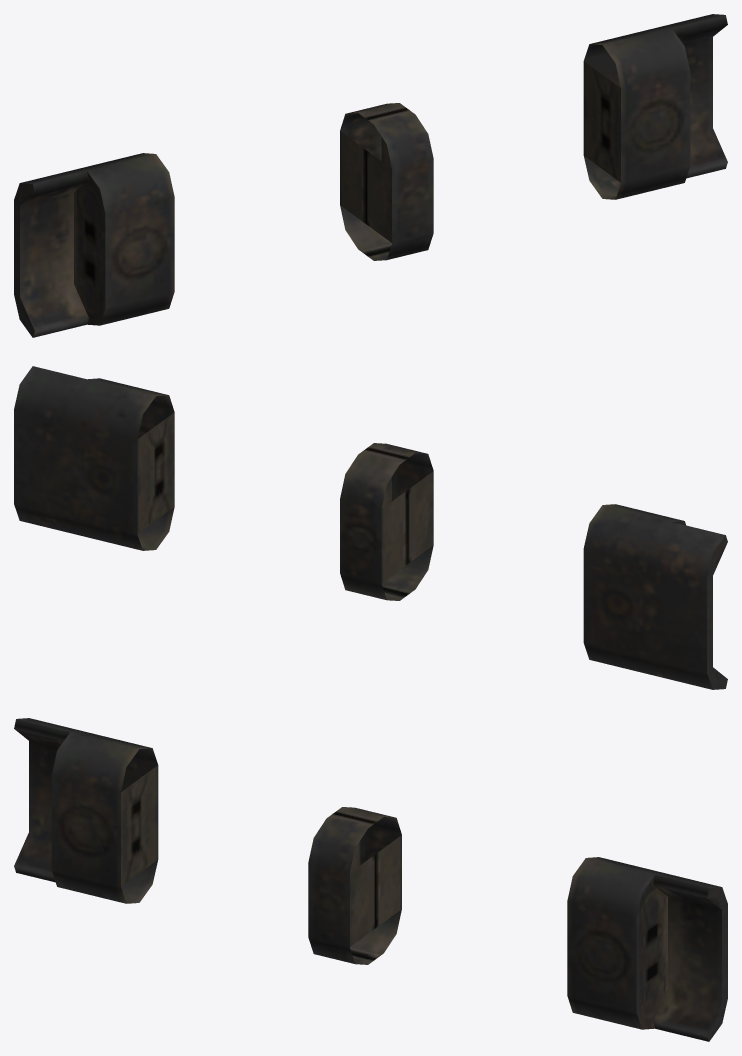
The picture shows the model from 3 angles, top to bottom: view 1: azimuth 30°, elevation 25°; view 2: azimuth 150°, elevation 25°; view 3: azimuth 330°, elevation 25°; orthographic projection.
Parts seen in each view (by area): view 1: set_0_group_0; view 2: set_0_group_0; view 3: set_0_group_0.
Boxes of the visible parts, x1,y1,x2,y2 form: set_0_group_0: (14,14,727,337); set_0_group_0: (14,366,727,689); set_0_group_0: (14,718,727,1041).
Size of the model in its own units: 0.5 by 0.1061 by 0.0655.
Materials: 1 (1 with a texture image).
